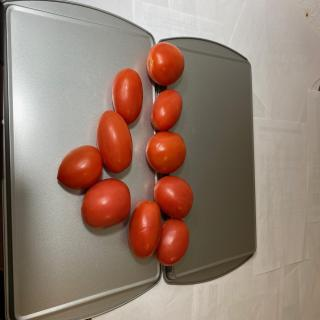Chilli: (57, 40, 194, 266)
Tomato: (80, 178, 130, 230), (96, 110, 133, 173), (56, 145, 102, 190), (128, 200, 162, 259), (112, 68, 143, 125), (146, 130, 187, 173), (146, 41, 184, 86), (154, 176, 194, 218), (156, 218, 189, 266), (150, 89, 182, 131)
